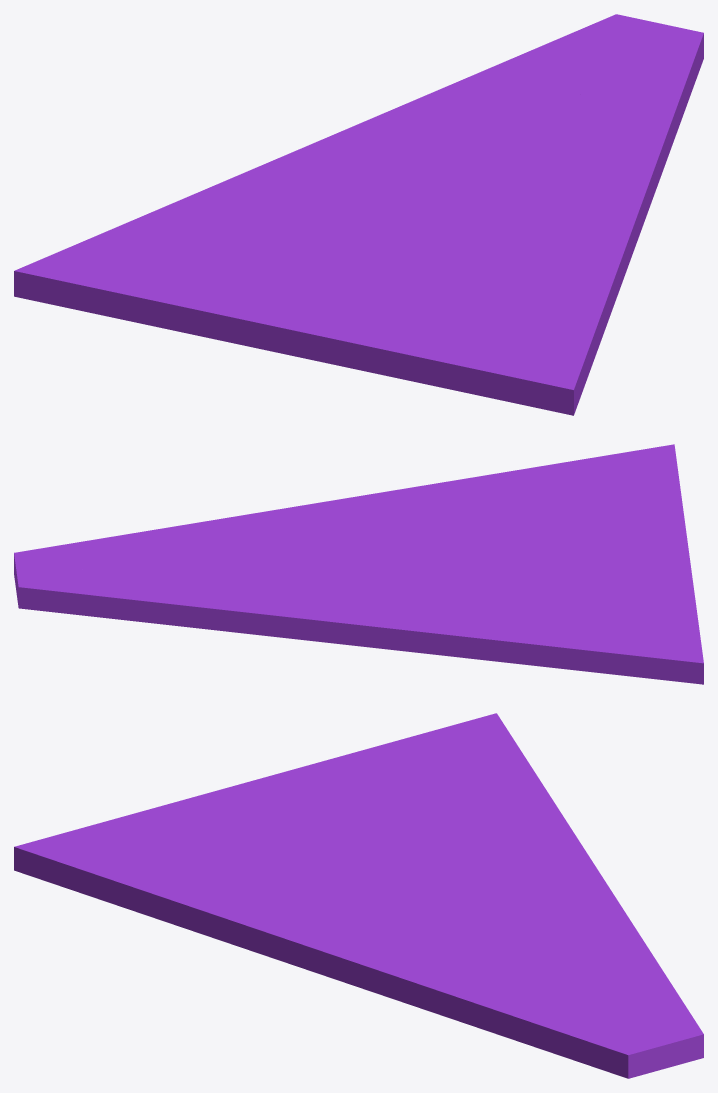
The model's file is StairsStep_32_chunks.fbx.
3 views of the same model, one above another, from view 1: azimuth 30°, elevation 25°; view 2: azimuth 150°, elevation 25°; view 3: azimuth 270°, elevation 25° (orthographic). The views are drawn at different scales.
Parts seen in each view (by area): view 1: StairsStep_32_0, StairsStep_32_3, StairsStep_32_2, StairsStep_32_1; view 2: StairsStep_32_0, StairsStep_32_3, StairsStep_32_2, StairsStep_32_1; view 3: StairsStep_32_0, StairsStep_32_2, StairsStep_32_3, StairsStep_32_1.
Part boxes in pixels (bbox=[...]): StairsStep_32_0: bbox=[14, 179, 612, 415]; StairsStep_32_3: bbox=[221, 14, 651, 182]; StairsStep_32_2: bbox=[472, 65, 692, 308]; StairsStep_32_1: bbox=[547, 22, 703, 130]; StairsStep_32_0: bbox=[358, 444, 703, 684]; StairsStep_32_3: bbox=[16, 560, 469, 657]; StairsStep_32_2: bbox=[74, 474, 493, 562]; StairsStep_32_1: bbox=[14, 543, 241, 608]; StairsStep_32_0: bbox=[14, 713, 567, 932]; StairsStep_32_2: bbox=[182, 903, 572, 1036]; StairsStep_32_3: bbox=[459, 823, 703, 1057]; StairsStep_32_1: bbox=[502, 958, 703, 1078].
Bounding box in the file's own units: 557 × 17.94 × 474.
